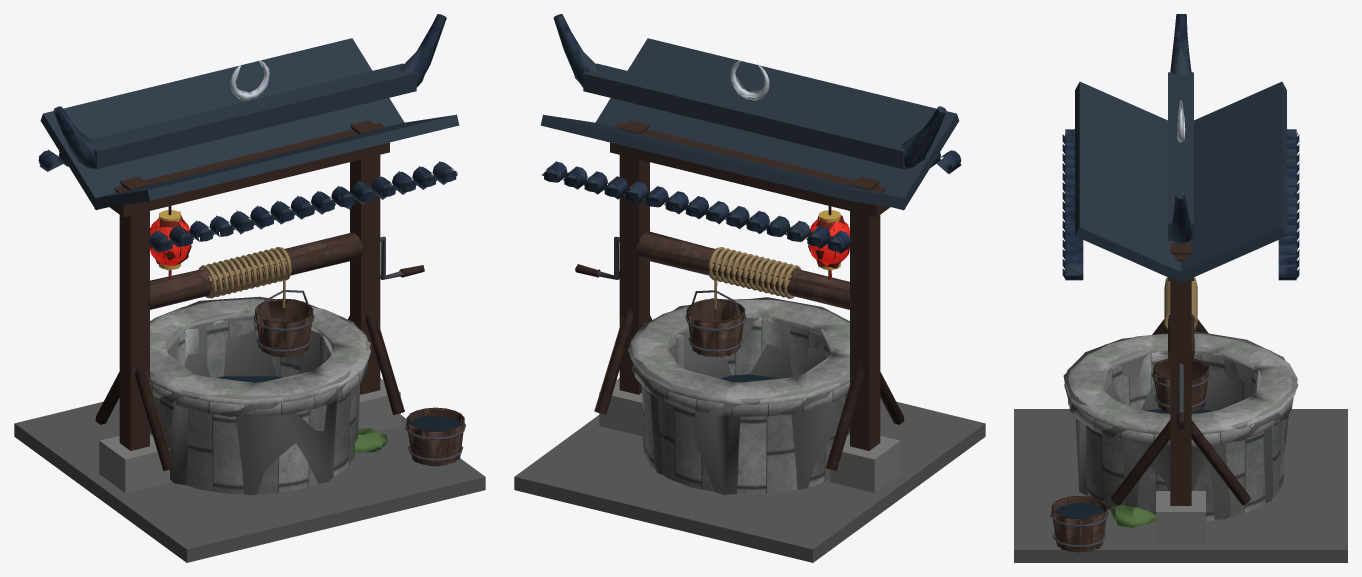
File: prop_village_well.gltf
3 views of the same model, side by side, from view 1: azimuth 30°, elevation 25°; view 2: azimuth 150°, elevation 25°; view 3: azimuth 270°, elevation 25° (orthographic). The views are drawn at different scales.
Parts seen in each view (by area): view 1: Far, Near; view 2: Far, Near; view 3: Far, Near.
Part boxes in pixels (x1,y1,x2,y2): Far: (14,14,485,562); Near: (38,14,465,494); Far: (514,14,985,562); Near: (544,14,961,494); Far: (1014,14,1347,562); Near: (1050,14,1299,552).
Size of the model in its own units: 3.67 by 3.61 by 2.8.
16 materials, 9 textured.
